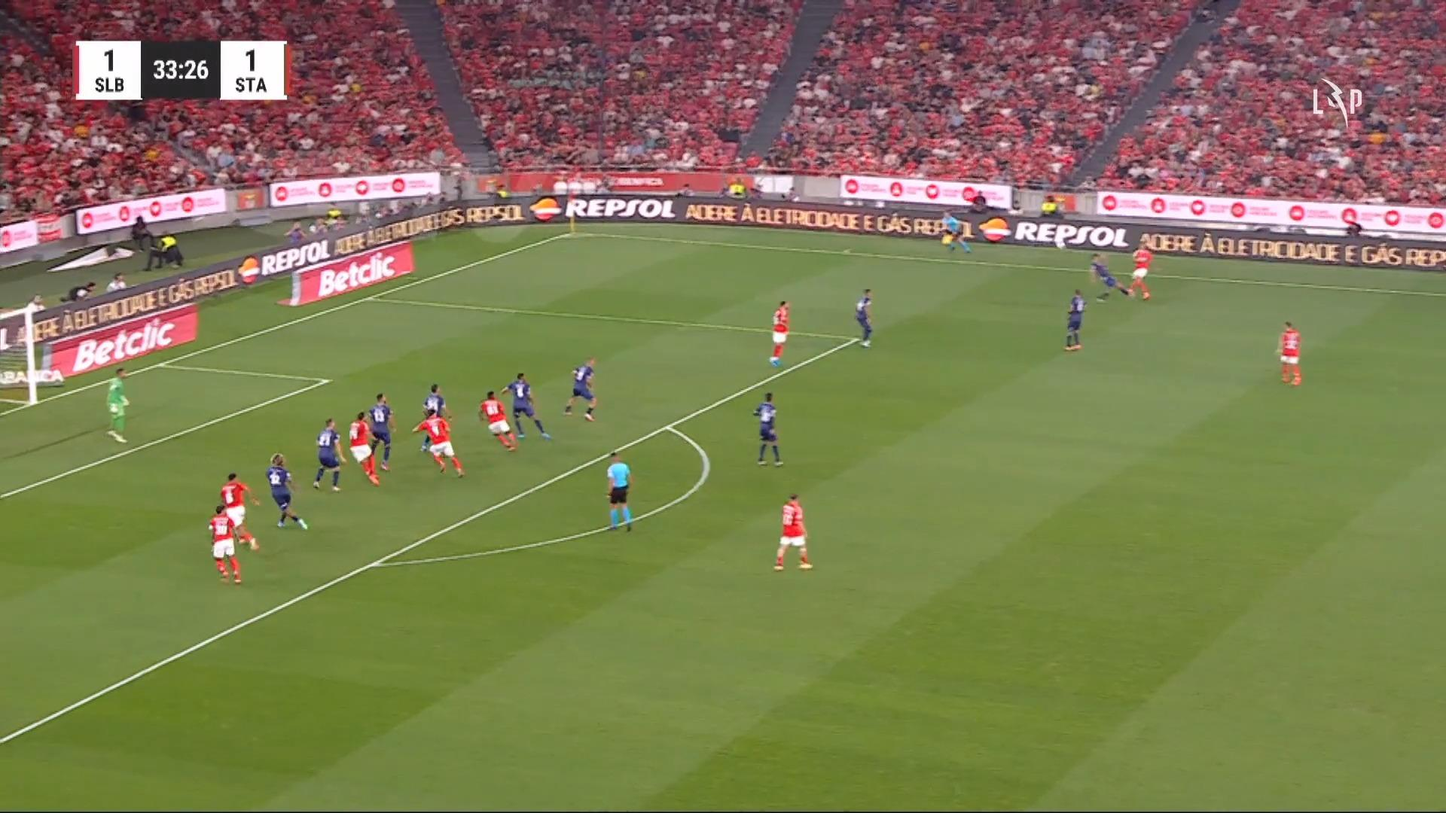goalkeeper: (105, 366, 130, 443)
player: (411, 406, 465, 477), (500, 371, 551, 440), (219, 470, 260, 550), (265, 452, 307, 529), (773, 492, 813, 570), (207, 504, 243, 583), (312, 418, 346, 492), (348, 410, 381, 486), (477, 390, 517, 451), (752, 391, 783, 467), (562, 357, 597, 421), (367, 392, 395, 470), (1089, 251, 1132, 301), (419, 382, 448, 452), (1276, 319, 1301, 385), (1127, 242, 1154, 300), (768, 300, 790, 366), (1063, 288, 1085, 350), (855, 288, 874, 347)
referee: (605, 449, 633, 531), (939, 208, 972, 254)
